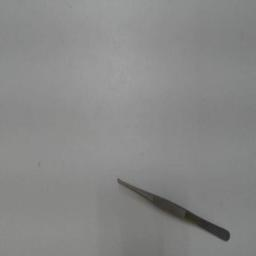Gillies Toothed Dissector: (114, 172, 236, 246)
